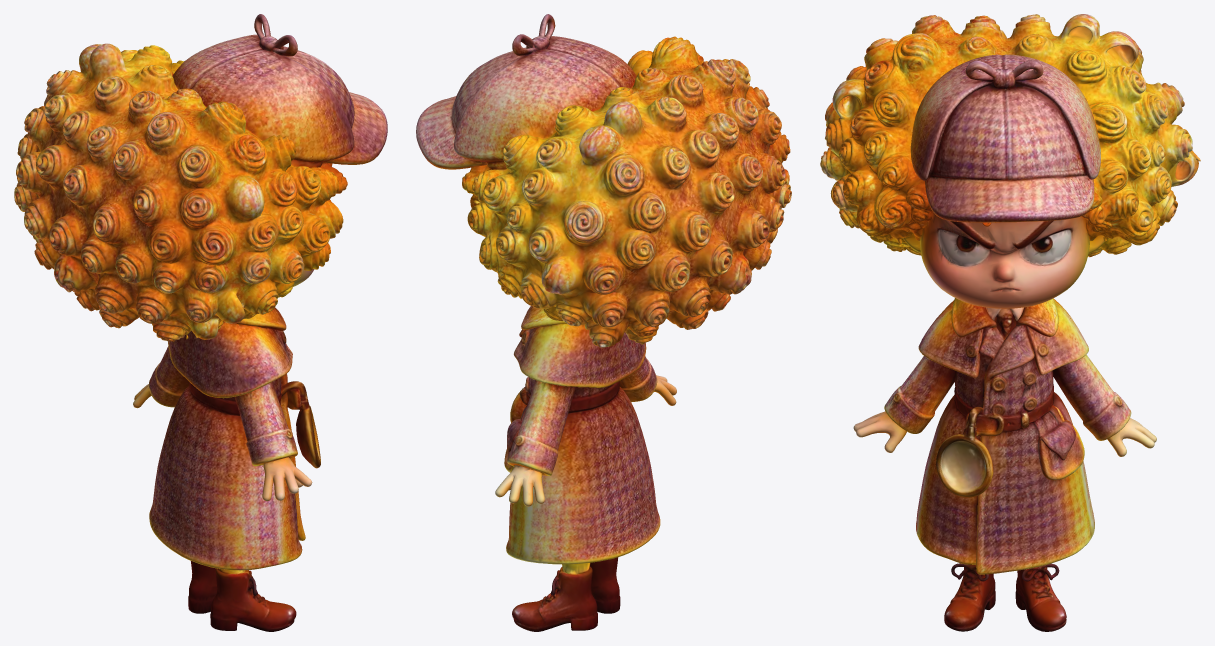
Rendered from goldilocks.glb.
The picture shows the model from 3 angles, left to right: view 1: azimuth 30°, elevation 25°; view 2: azimuth 150°, elevation 25°; view 3: azimuth 270°, elevation 25°; orthographic projection.
Visible parts, largest first — view 1: tripo_node_acf5d361-3811-496a-8279-4167a5b45588; view 2: tripo_node_acf5d361-3811-496a-8279-4167a5b45588; view 3: tripo_node_acf5d361-3811-496a-8279-4167a5b45588.
Boxes of the visible parts, x1=… form: tripo_node_acf5d361-3811-496a-8279-4167a5b45588: x1=14, y1=14, x2=387, y2=631; tripo_node_acf5d361-3811-496a-8279-4167a5b45588: x1=416, y1=14, x2=791, y2=631; tripo_node_acf5d361-3811-496a-8279-4167a5b45588: x1=820, y1=14, x2=1200, y2=631.
Bounding box in the file's own units: 0.6003 × 0.9998 × 0.5987.
Materials: 1 (1 with a texture image).
